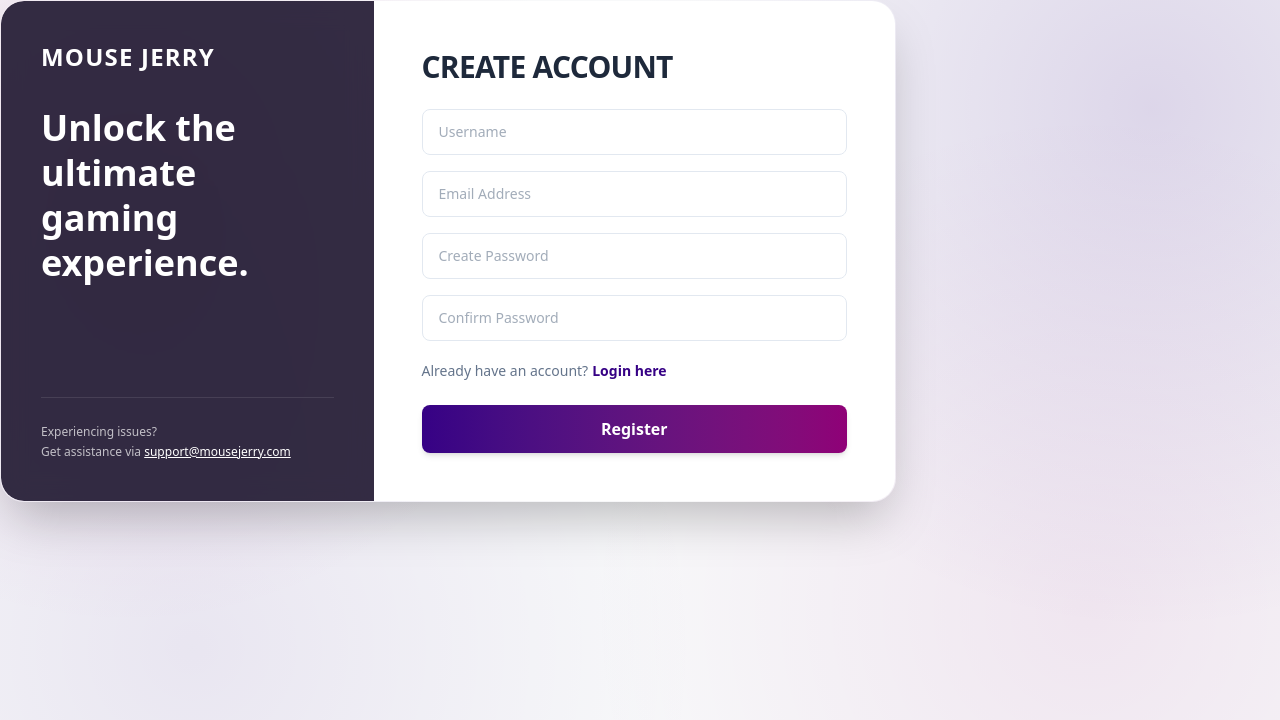
AuthCard › shows error when email is missing in register mode
The image size is (1280, 720).
Type "testuser" into the field with test id "input-username".
click(634, 132); type("testuser")  # box x1=422 y1=109 x2=847 y2=155
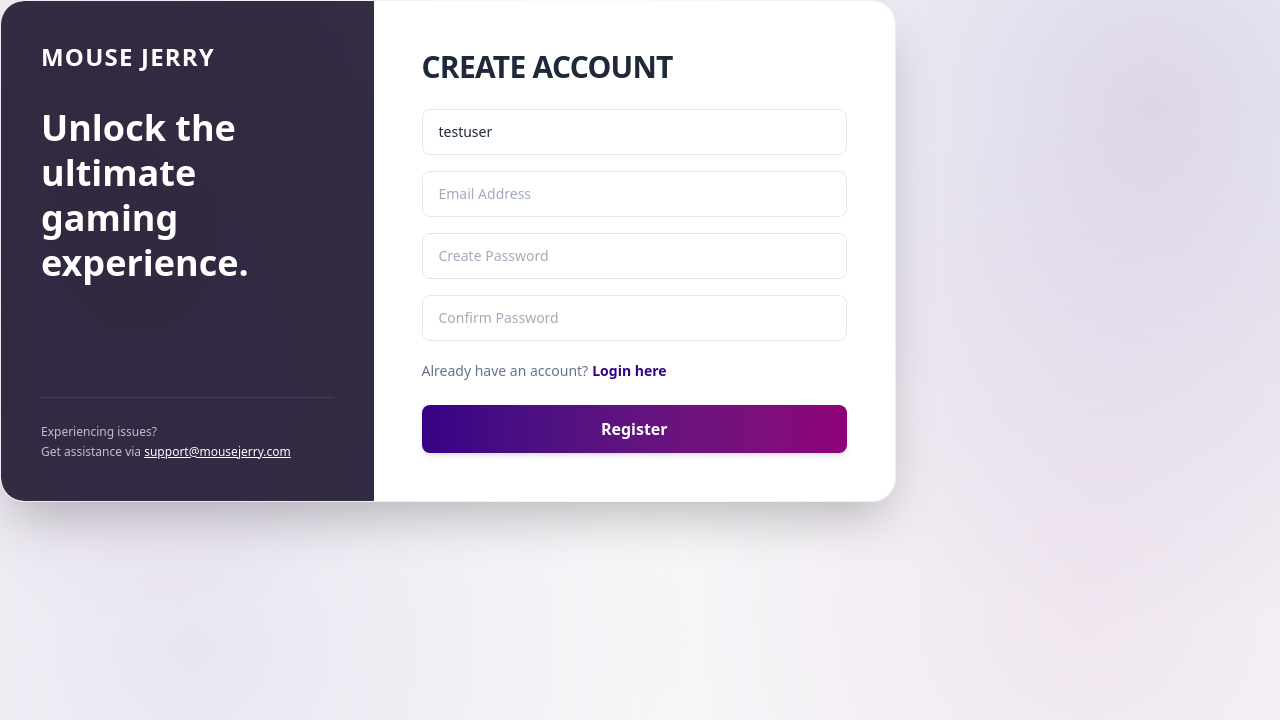
Type "secret123" into the password field with test id "input-password".
click(634, 256); type("secret123")  # box x1=422 y1=233 x2=847 y2=279
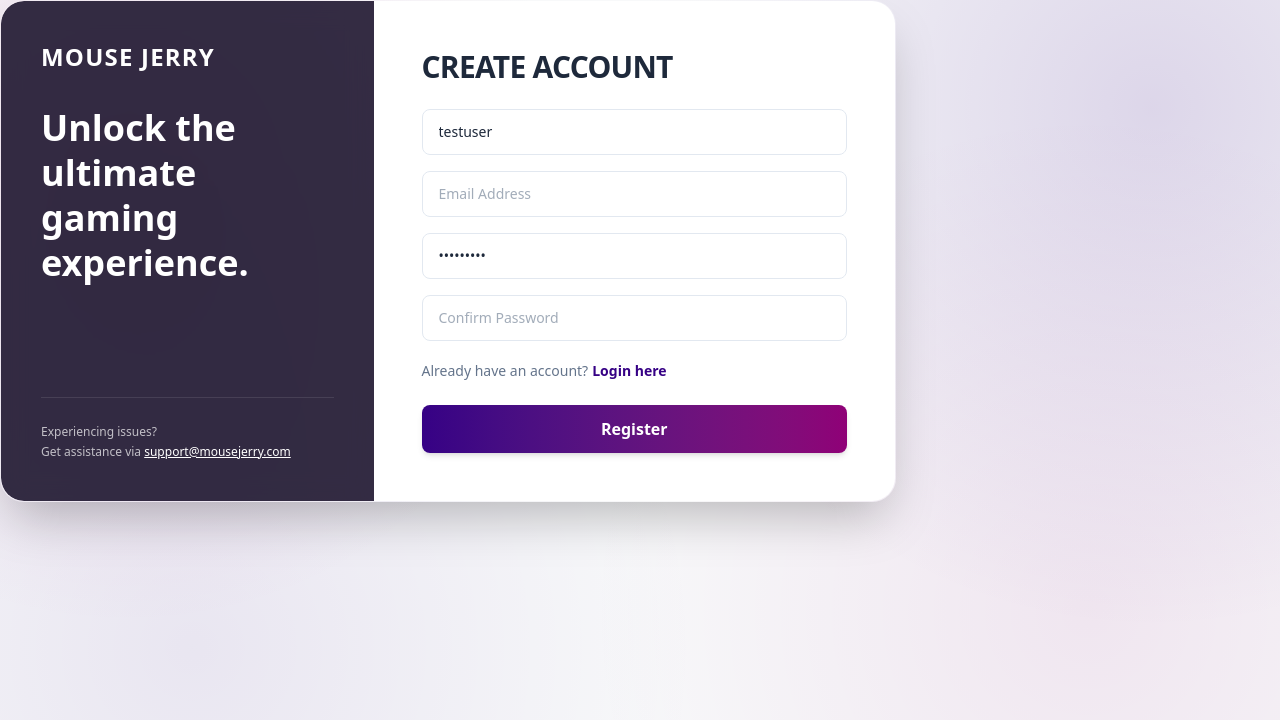
Submit the form with test id "auth-form", box x1=422 y1=109 x2=847 y2=453
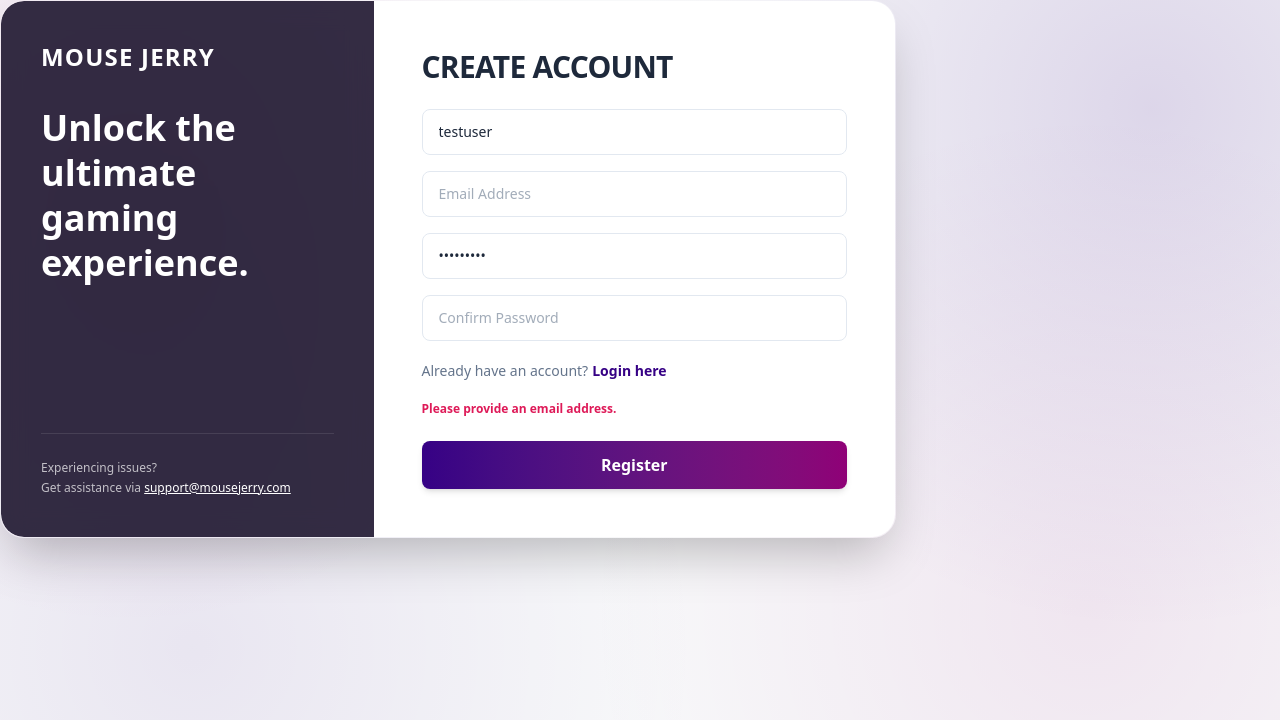
Expected: the text with test id "error-msg" reads "Please provide an email address.", x1=422 y1=400 x2=616 y2=417
